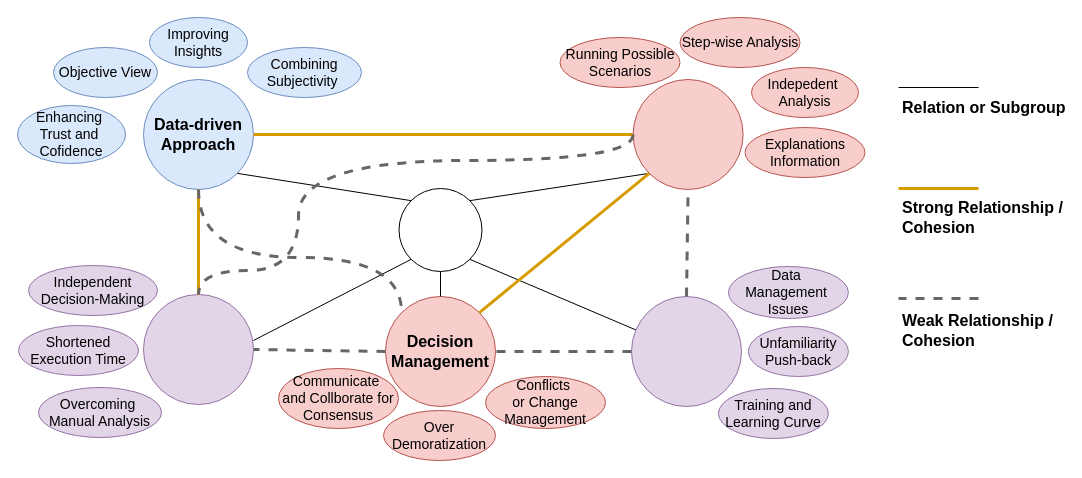
The diagram is 1082 pixels wide and 478 high, and some of its shapes have lost their labels. The box of each missing label's shape, as (x1, y1, x2, y2) in pixels:
Analytics Execution: (142, 294, 254, 404)
Building Analytics Support: (632, 78, 743, 190)
Goals and Challenges: (398, 188, 482, 272)
Managing Adoption Challenges: (630, 296, 742, 406)
